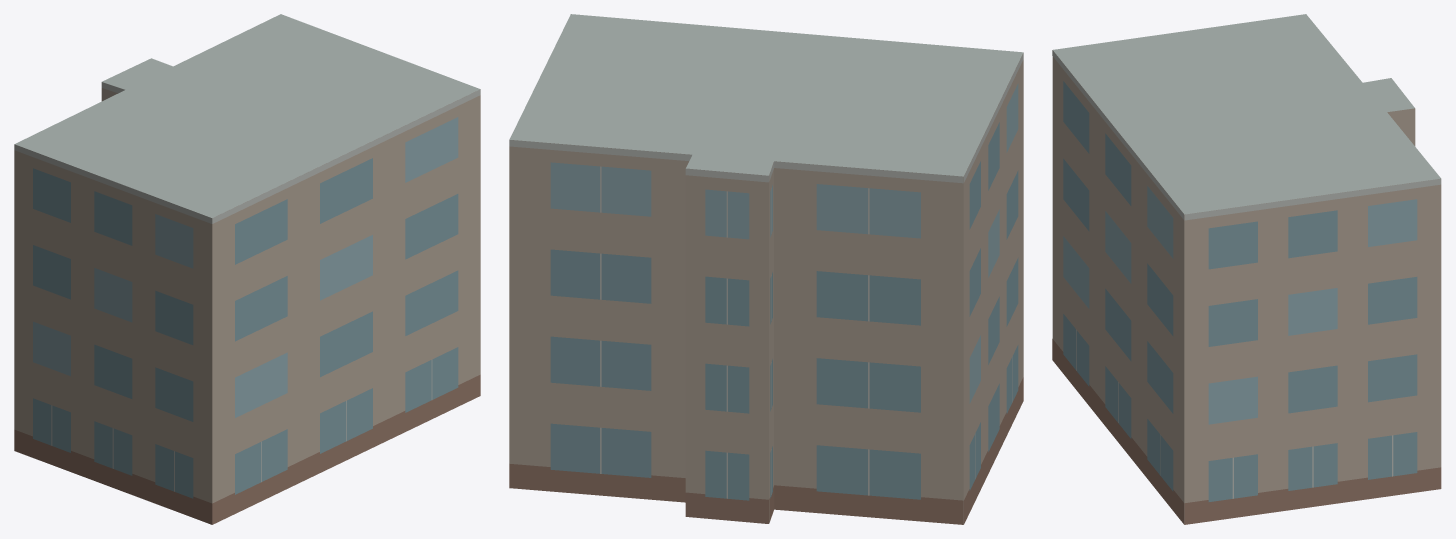
The model's file is survey-upis-32594331.glb.
3 views of the same model, side by side, from view 1: azimuth 30°, elevation 25°; view 2: azimuth 150°, elevation 25°; view 3: azimuth 270°, elevation 25° (orthographic). The views are drawn at different scales.
Visible parts, largest first — view 1: survey-upis-32594331.tmp; view 2: survey-upis-32594331.tmp; view 3: survey-upis-32594331.tmp.
Part boxes in pixels (<box>): survey-upis-32594331.tmp: <box>14,14,480,524</box>; survey-upis-32594331.tmp: <box>509,14,1023,524</box>; survey-upis-32594331.tmp: <box>1052,14,1441,524</box>.
Size of the model in its own units: 17.47 by 12.6 by 14.32.
